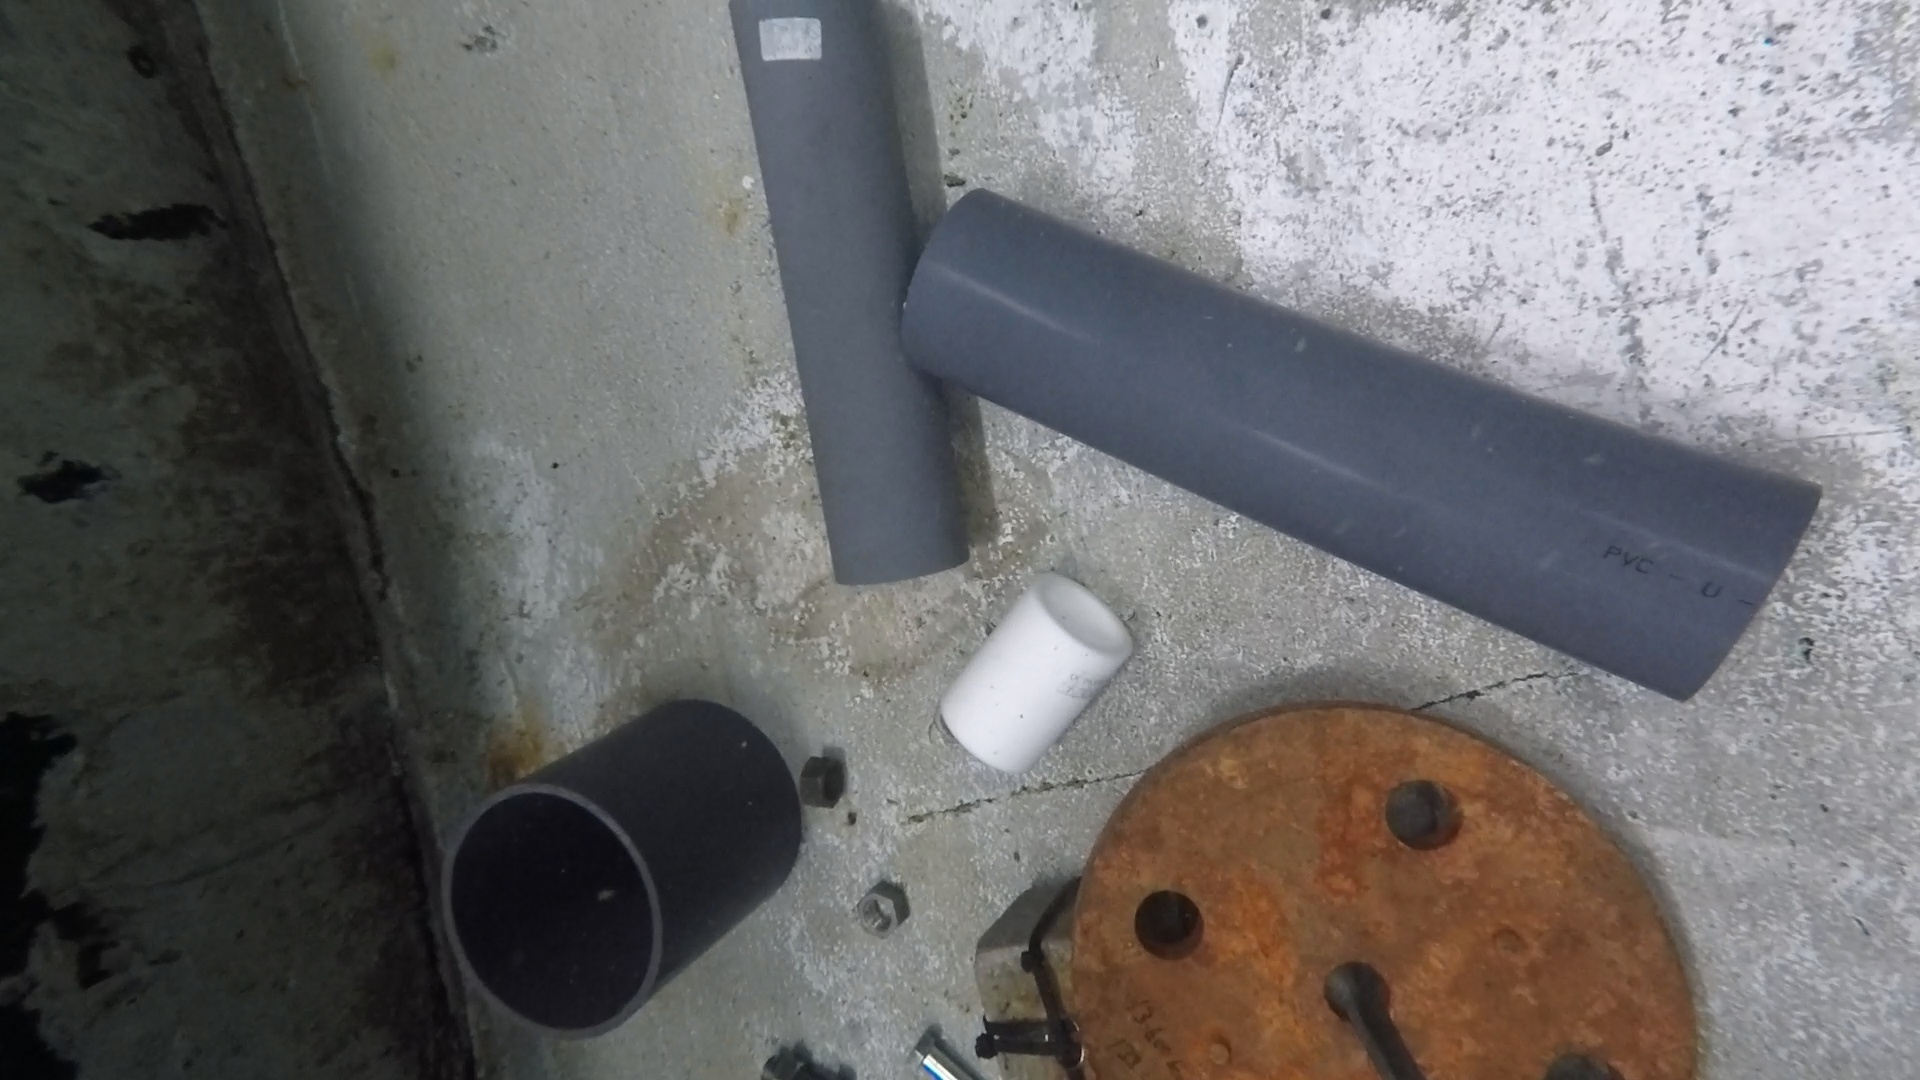bolt: (907, 1033, 972, 1080), (762, 1054, 837, 1080)
flange: (1072, 705, 1701, 1080)
led_block: (975, 880, 1084, 1080)
nut: (857, 880, 909, 938), (800, 756, 847, 808)
pipe: (898, 181, 1822, 703), (725, 1, 975, 583), (440, 699, 804, 1046), (939, 571, 1135, 775)
